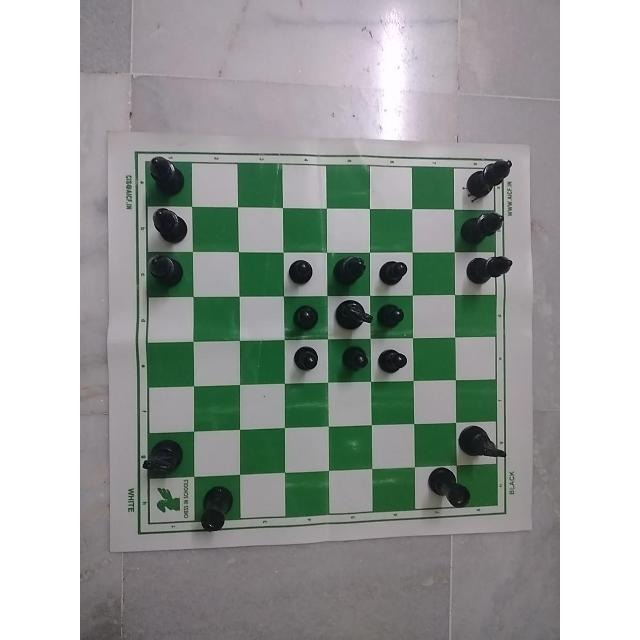black-bishop: (462, 152, 516, 204), (458, 199, 516, 243), (463, 248, 517, 295), (141, 247, 193, 295), (144, 146, 186, 194), (136, 208, 190, 244), (332, 250, 372, 286)
black-knight: (133, 431, 187, 482), (454, 421, 510, 463), (327, 297, 374, 334)
black-pawn: (291, 336, 327, 379), (373, 341, 412, 379), (372, 254, 412, 290), (284, 254, 320, 292), (376, 294, 412, 332), (336, 336, 367, 379), (286, 295, 321, 333)
black-rook: (422, 467, 480, 518), (191, 480, 242, 536)
